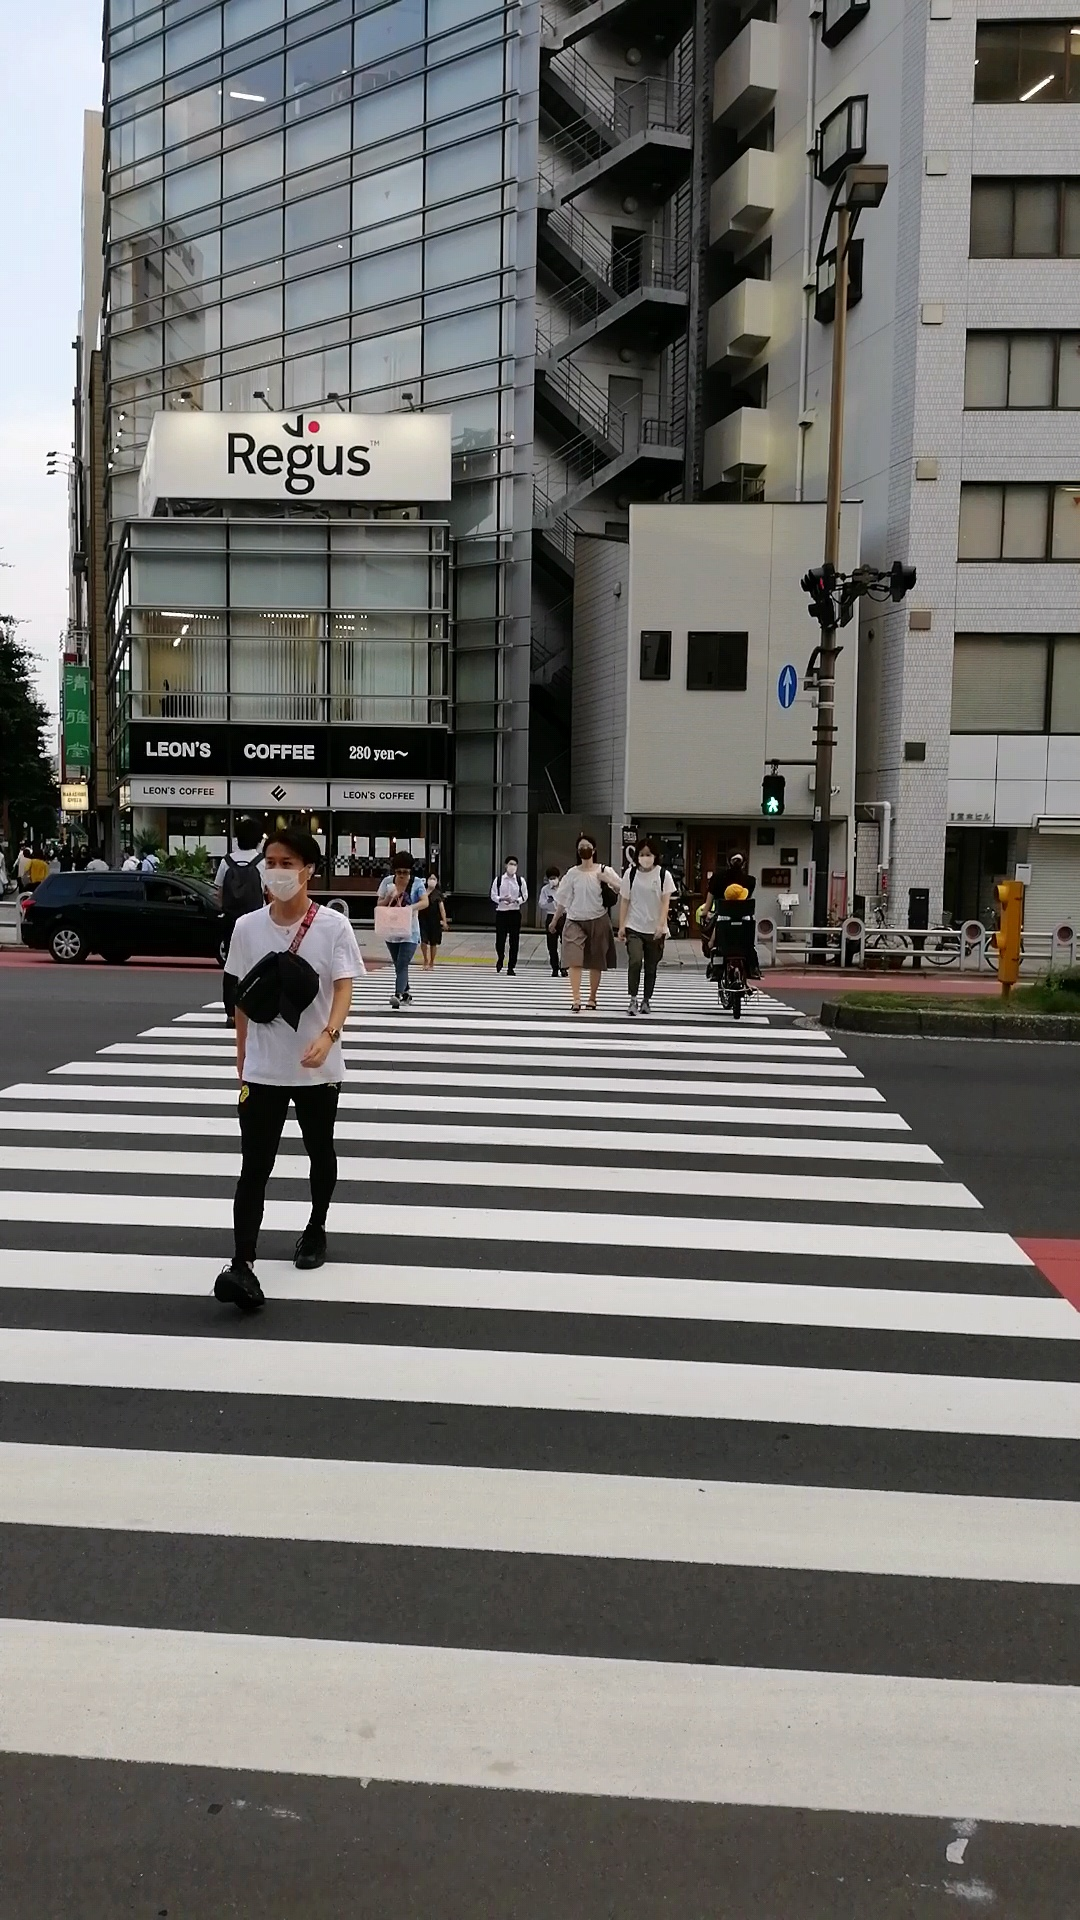green: (762, 774, 785, 816)
